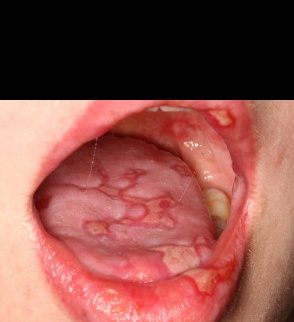SJS-TEN: (63, 151, 191, 259), (132, 207, 249, 310), (197, 92, 243, 141)
